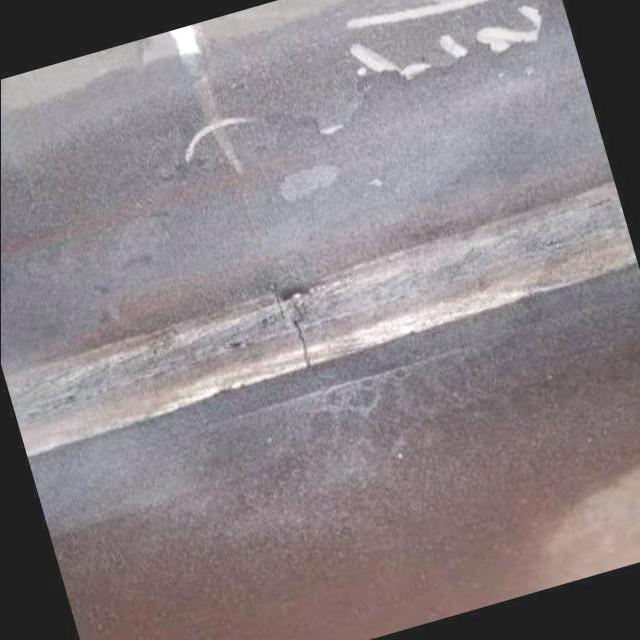defect: (289, 316, 316, 371)
